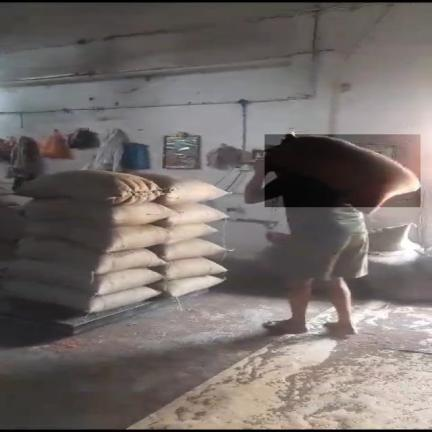Zone-Counting: (246, 134, 419, 335)
